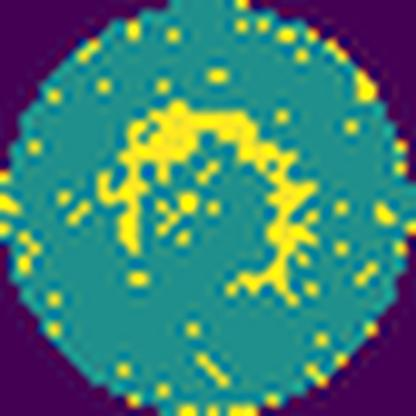Donut: (91, 98, 340, 314)
